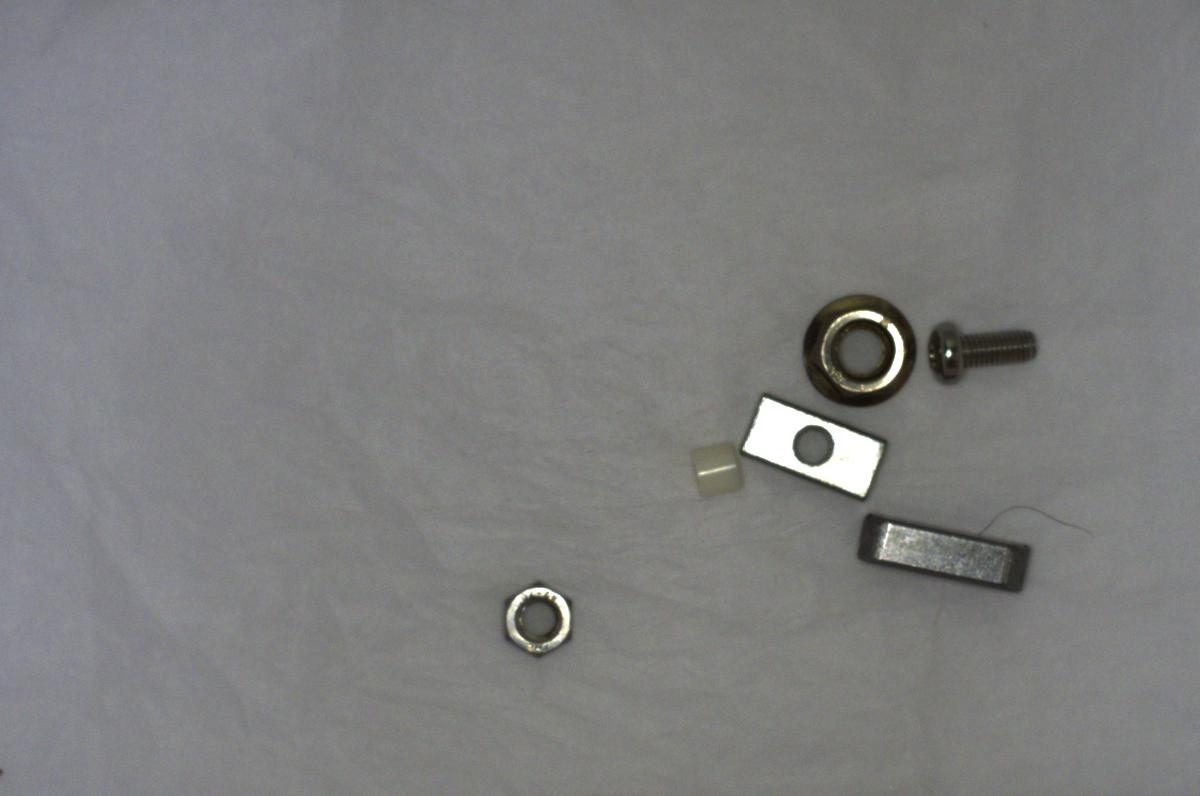Flange nut: (788, 272, 920, 410)
Hexagon nut: (498, 568, 583, 660)
Keybar: (843, 508, 1050, 601)
Plastic cushion pillar: (679, 424, 752, 501)
Rectangular nut: (733, 392, 891, 500)
Round head screw: (920, 304, 1048, 391)
